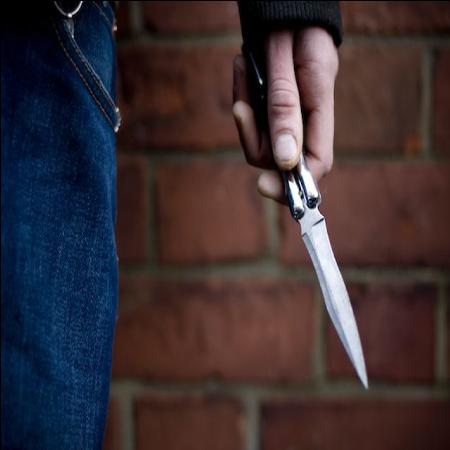long weapon: (256, 116, 374, 404)
